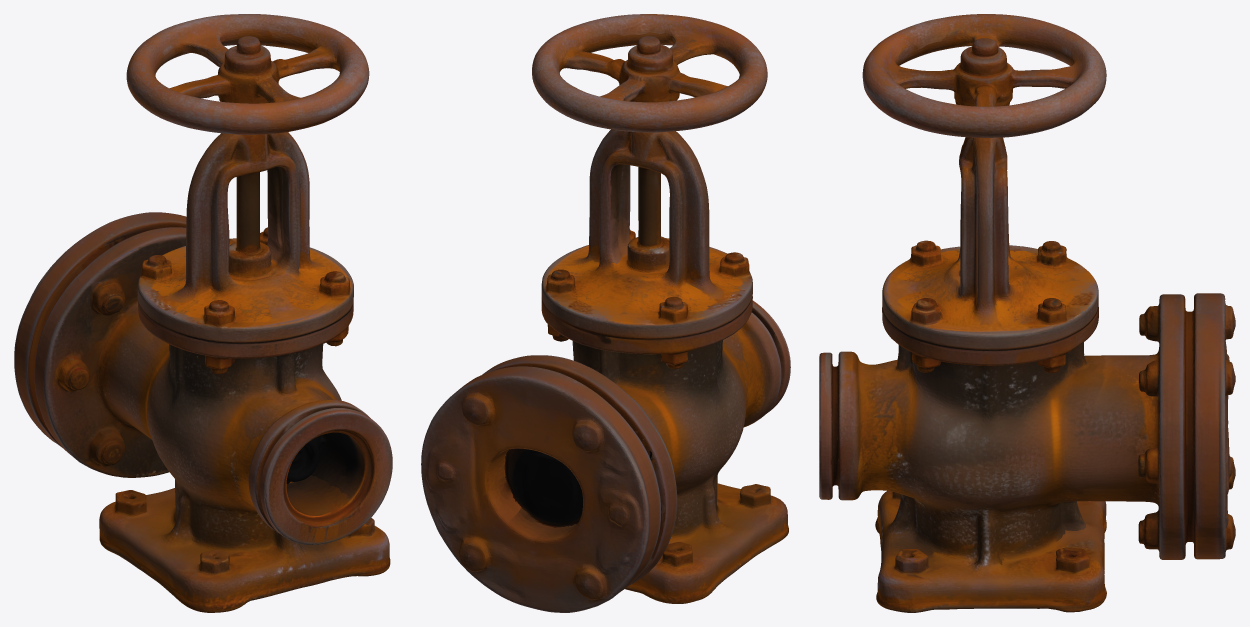
File: first_try_pump_prompt_gave_valve.glb
3 renders of one model, left to right at view 1: azimuth 30°, elevation 25°; view 2: azimuth 150°, elevation 25°; view 3: azimuth 270°, elevation 25°, orthographic. The views are drawn at different scales.
Visible parts, largest first — view 1: textured.obj; view 2: textured.obj; view 3: textured.obj.
Part boxes in pixels (x1,y1,x2,y2): textured.obj: (14, 14, 392, 612); textured.obj: (421, 14, 790, 612); textured.obj: (819, 14, 1235, 612).
Bounding box in the file's own units: 0.9441 × 2 × 1.44.
Materials: 1 (1 with a texture image).
